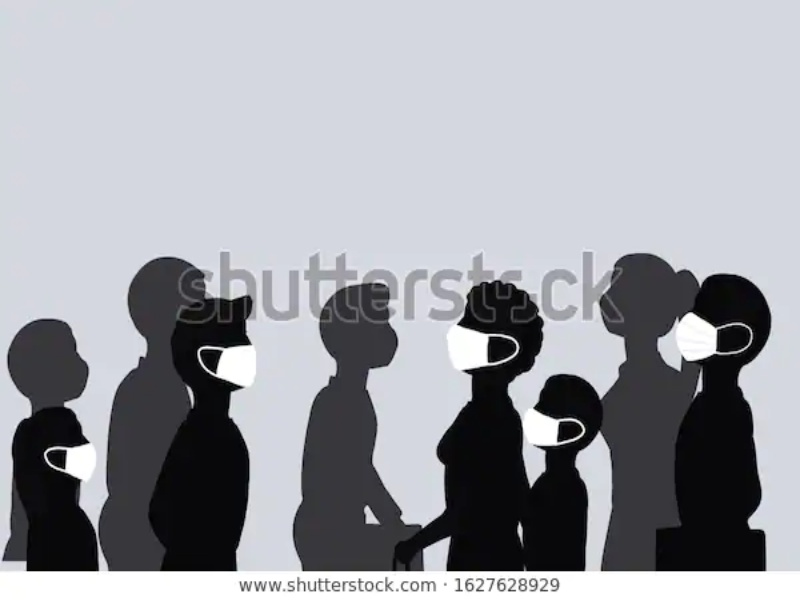ManaoArotava: (32, 408, 107, 491)
